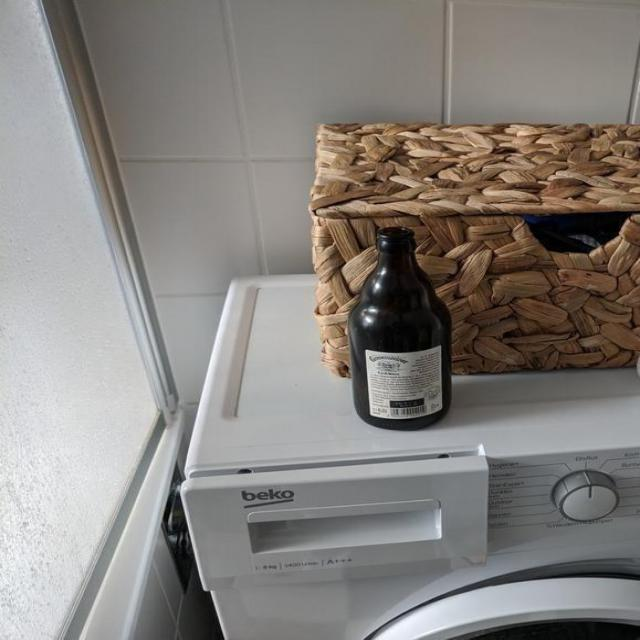bottle-glass: (345, 224, 454, 432)
